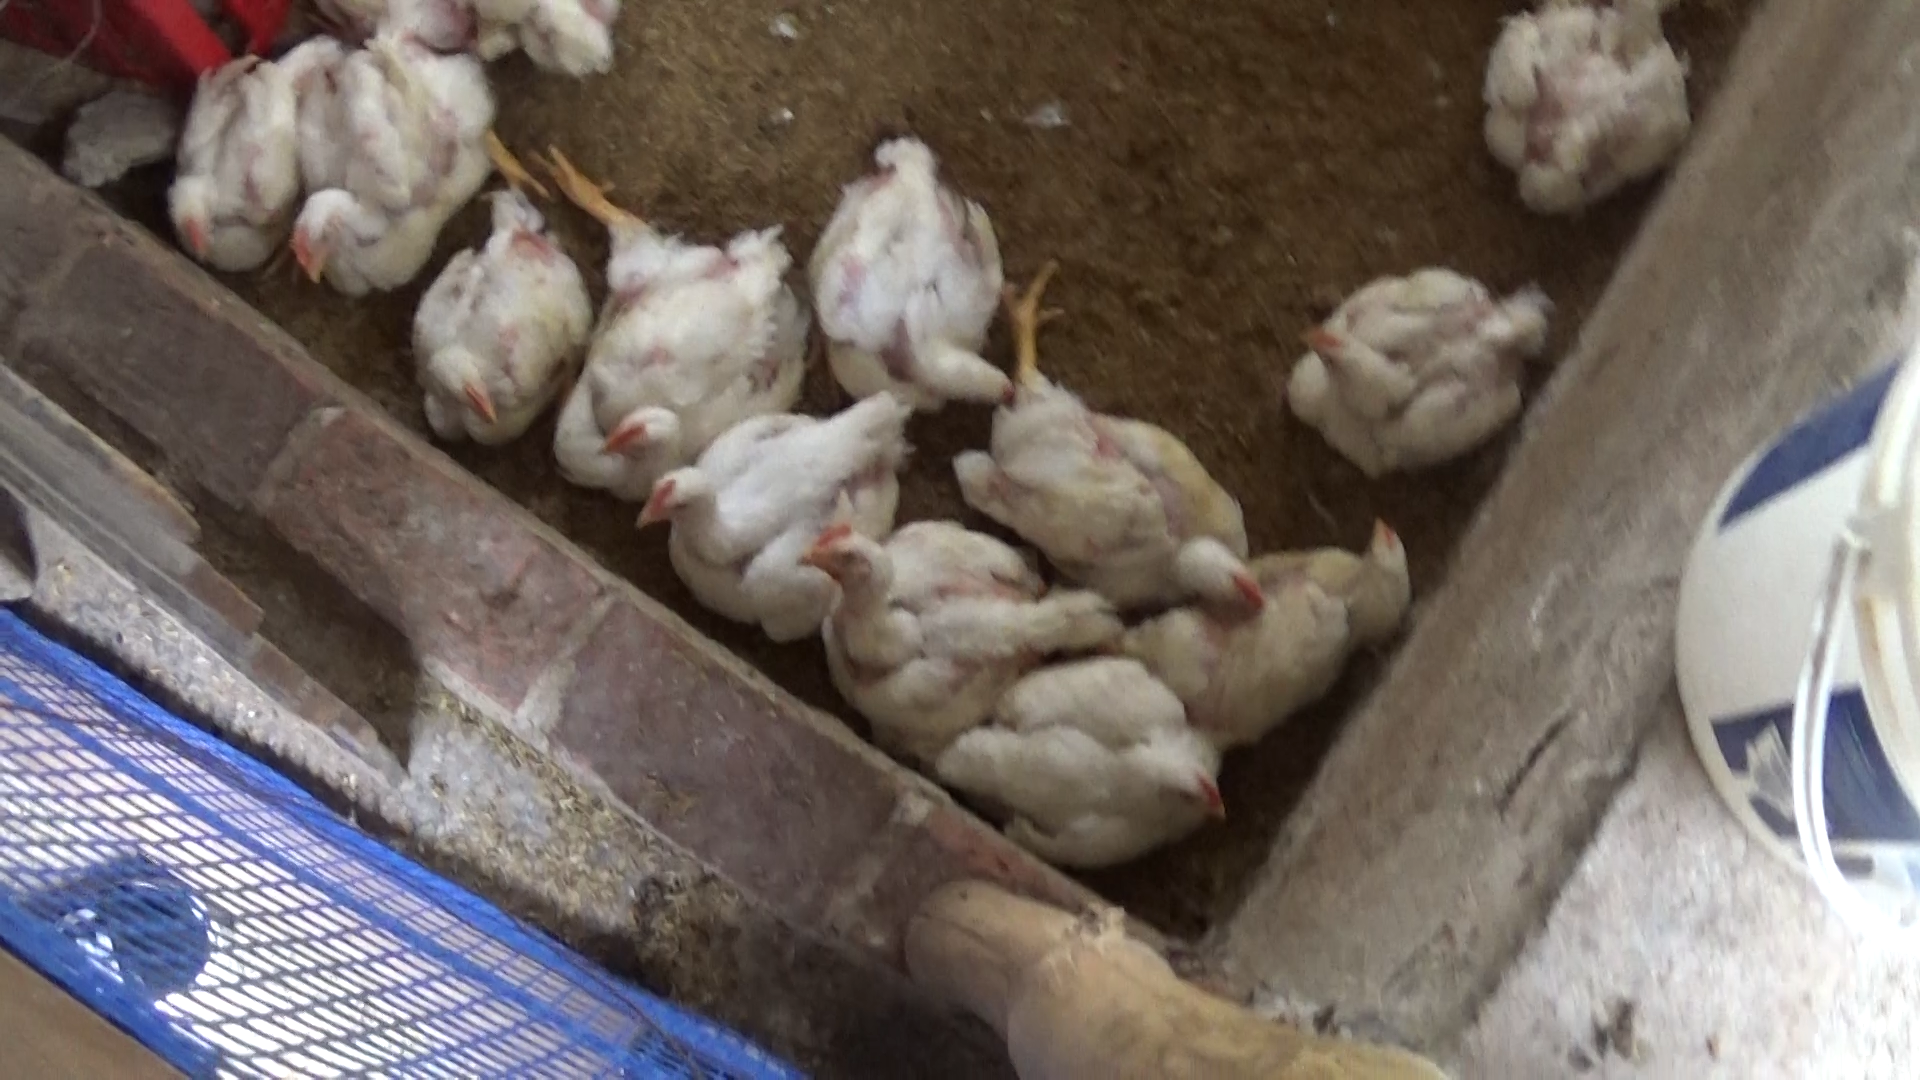Pollos: (951, 251, 1273, 632), (521, 144, 825, 492), (632, 386, 960, 626), (796, 512, 1120, 744), (949, 649, 1237, 886), (1271, 252, 1553, 483), (270, 24, 498, 302), (1127, 516, 1433, 713), (808, 128, 1022, 409), (1462, 0, 1695, 228), (401, 178, 580, 452), (157, 32, 315, 268)
